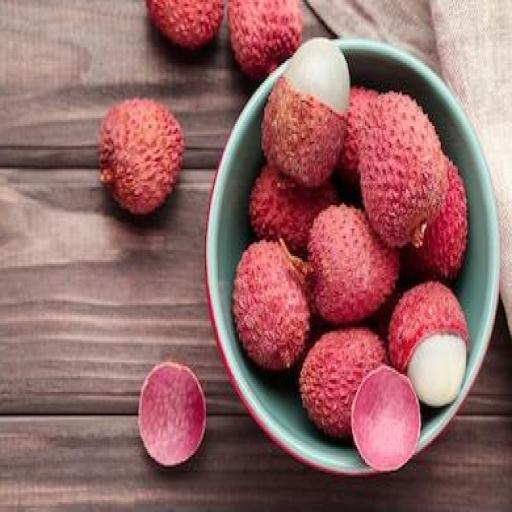lychee: (358, 93, 446, 246), (261, 38, 348, 189), (308, 205, 398, 324), (232, 241, 308, 370), (388, 282, 467, 405), (98, 99, 182, 214), (299, 329, 386, 439), (401, 160, 466, 281), (249, 166, 336, 254), (350, 367, 420, 470), (137, 363, 205, 466), (227, 0, 300, 78), (337, 87, 377, 187), (145, 0, 223, 49), (366, 284, 404, 340)
